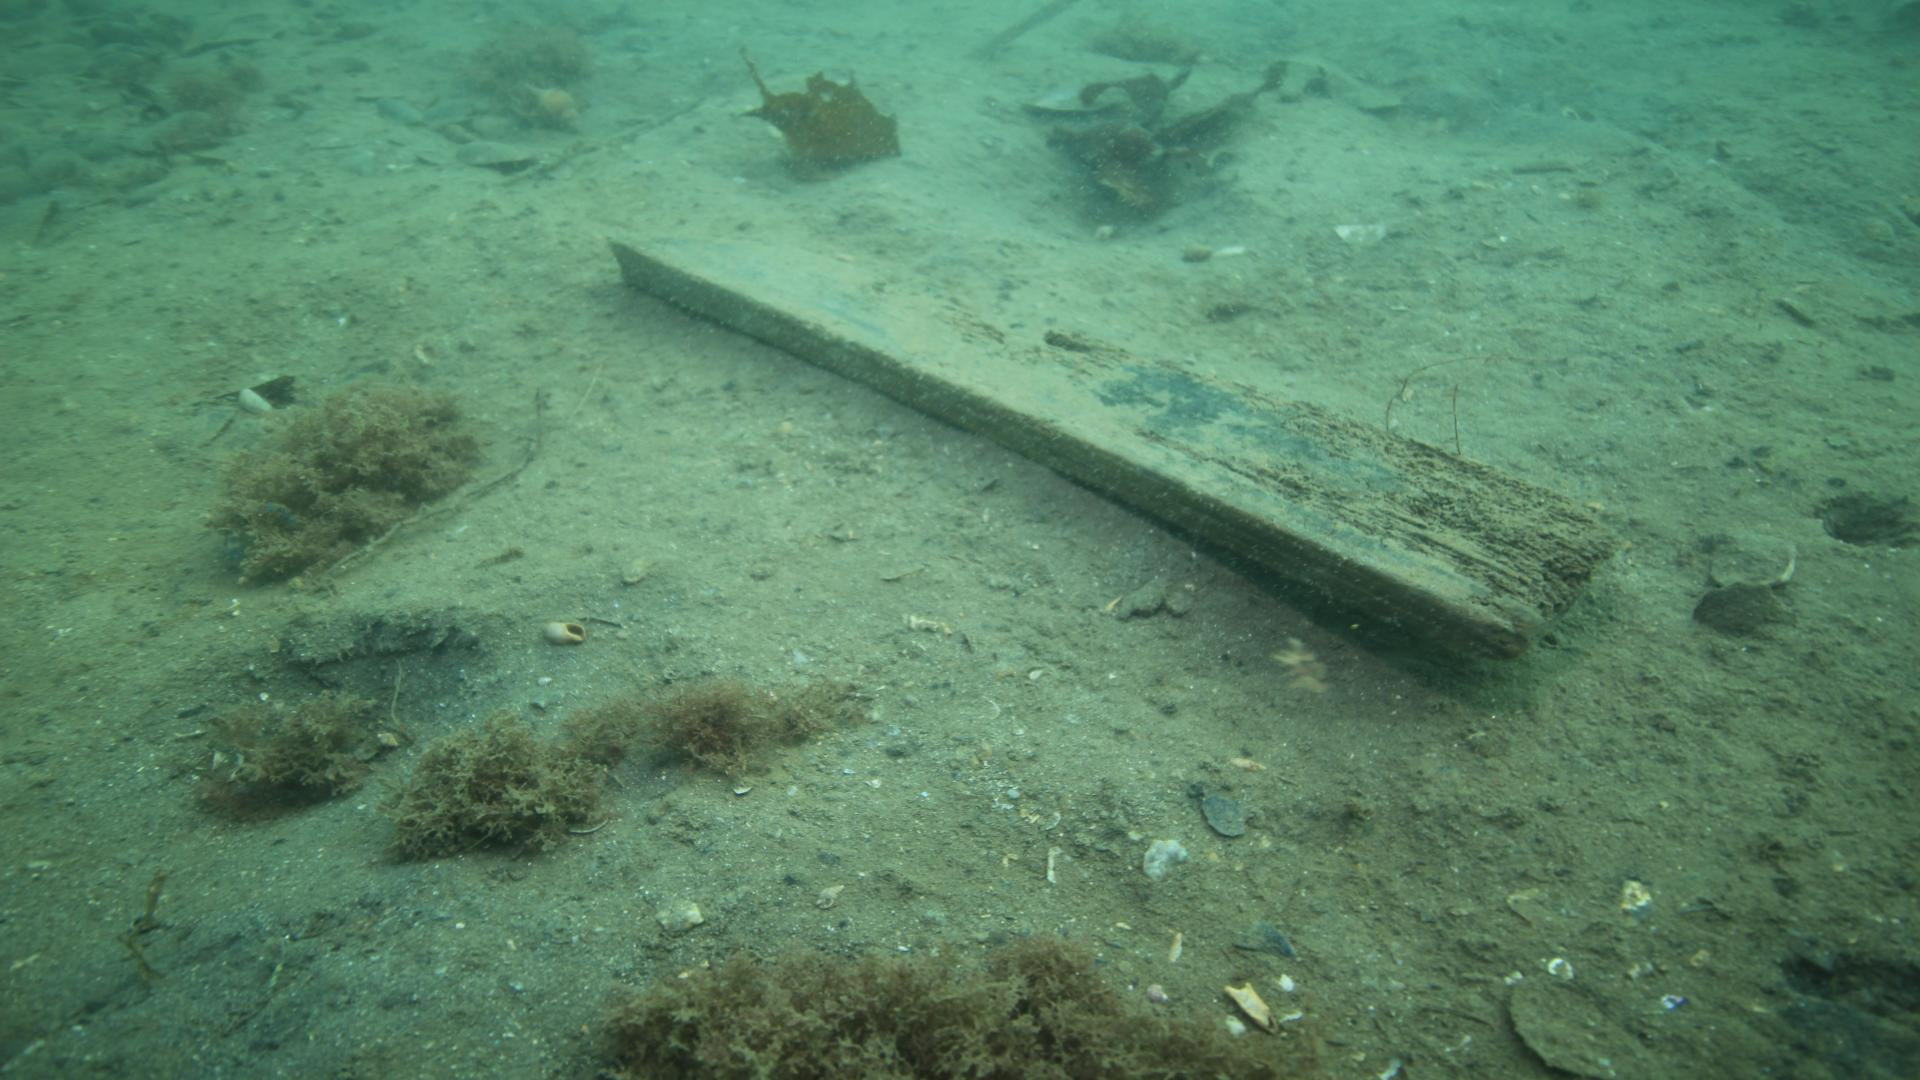wood: (603, 229, 1618, 659)
